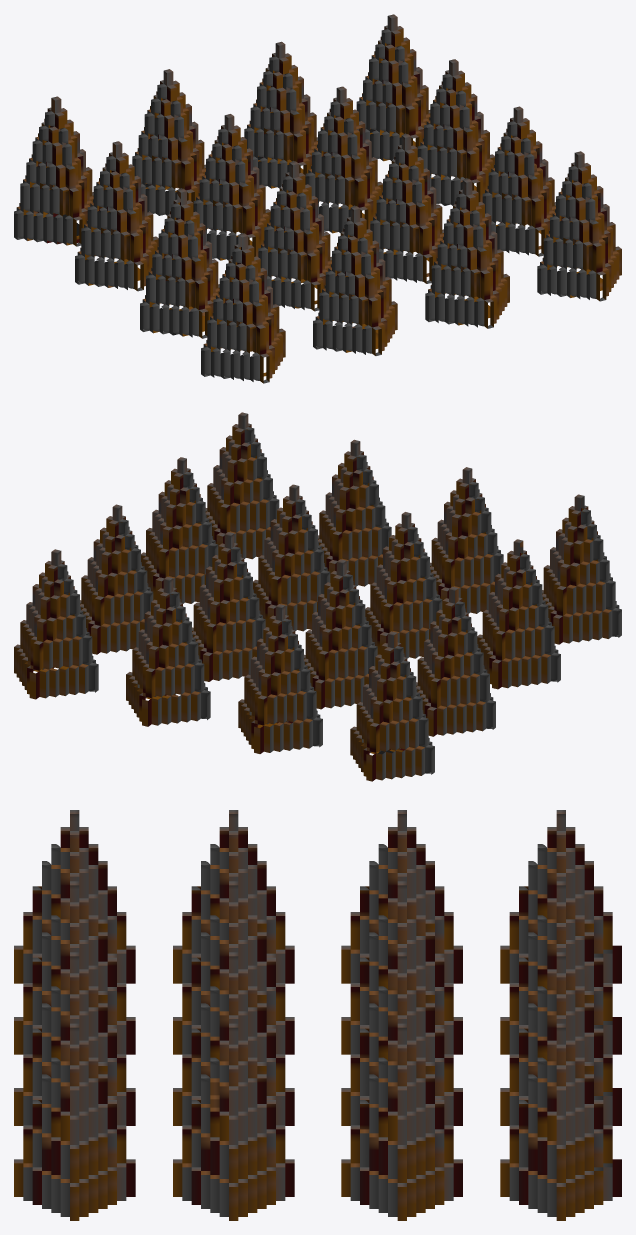
File: Content.obj
The picture shows the model from 3 angles, top to bottom: view 1: azimuth 30°, elevation 25°; view 2: azimuth 150°, elevation 25°; view 3: azimuth 270°, elevation 25°; orthographic projection. The views are drawn at different scales.
Parts seen in each view (by area): view 1: Model; view 2: Model; view 3: Model.
Part boxes in pixels (<box>): Model: <box>14,14,621,383</box>; Model: <box>14,412,621,781</box>; Model: <box>14,810,621,1220</box>.
Bounding box in the file's own units: 32 × 9.55 × 31.04.
